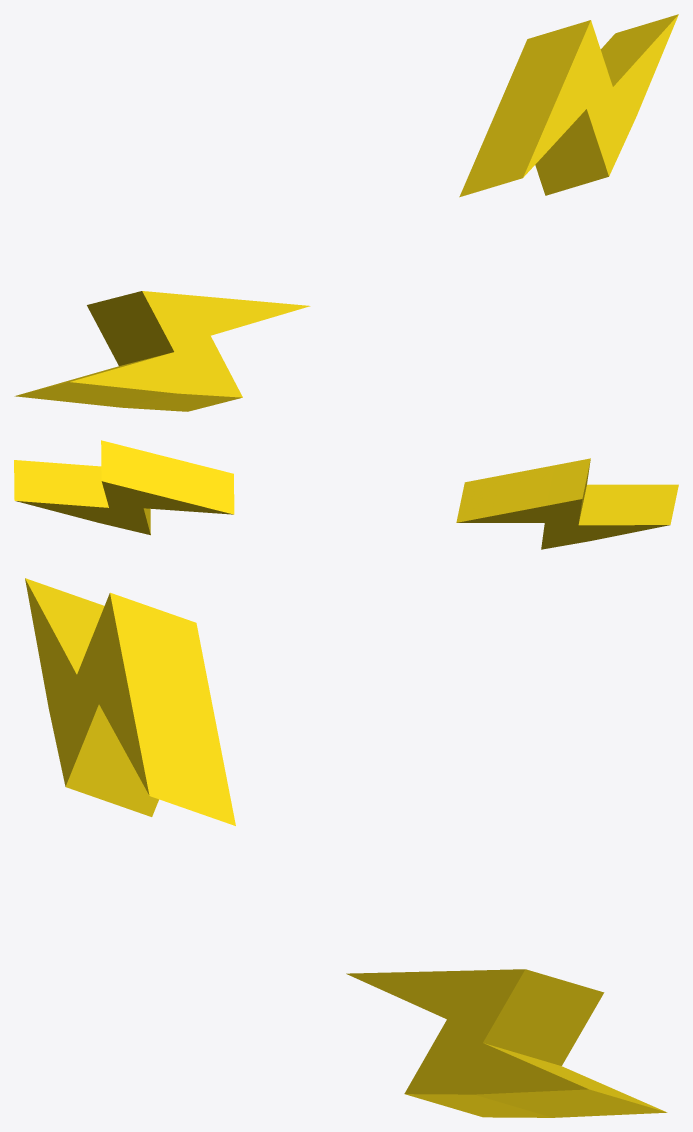
3 views of the same model, one above another, from view 1: azimuth 30°, elevation 25°; view 2: azimuth 150°, elevation 25°; view 3: azimuth 270°, elevation 25° (orthographic). The views are drawn at different scales.
Parts seen in each view (by area): view 1: 520; view 2: 520; view 3: 520.
Part boxes in pixels (x1=…): 520: x1=14, y1=14, x2=678, y2=411; 520: x1=14, y1=440, x2=678, y2=549; 520: x1=25, y1=578, x2=667, y2=1117.
Bounding box in the file's own units: 45.89 × 23.79 × 7.61.
